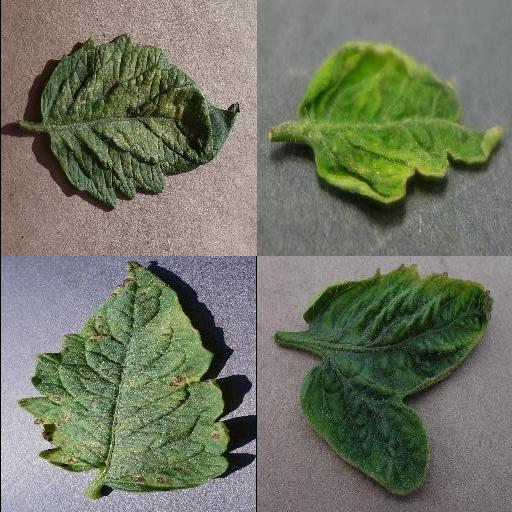Septoria: (20, 259, 230, 493)
Spider Mites: (38, 34, 240, 208)
Yellow Leaf Curl Virus: (297, 265, 493, 499), (303, 43, 505, 206)
